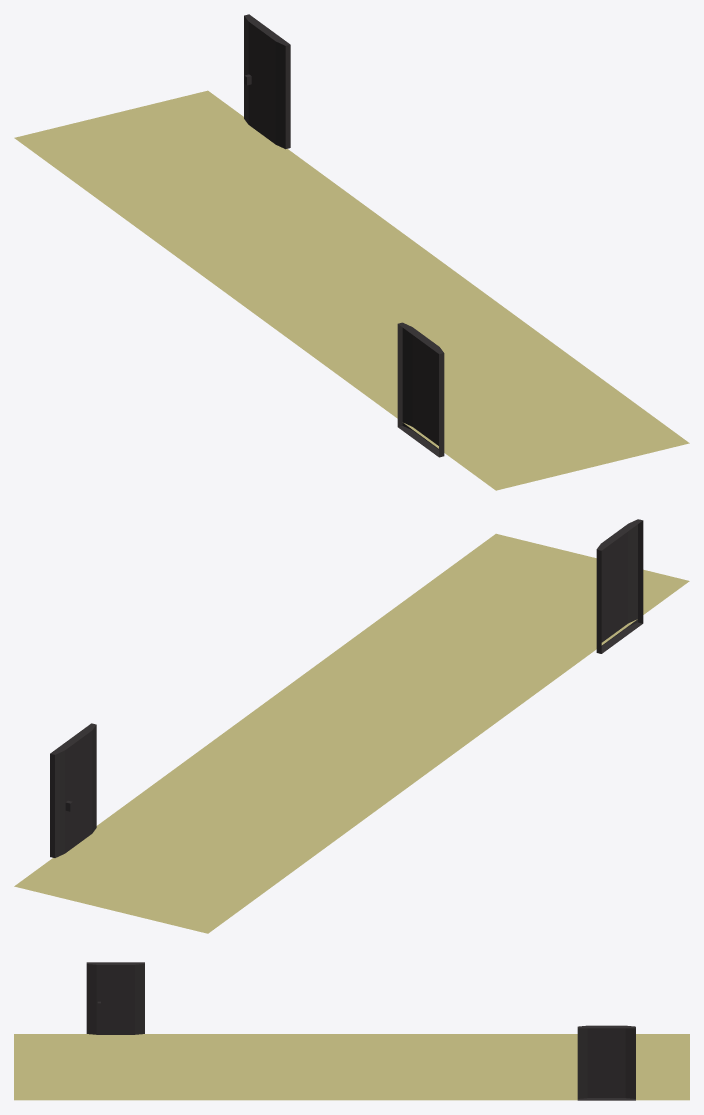
The model's file is ByakkoStage3.2.fbx.
3 views of the same model, one above another, from view 1: azimuth 30°, elevation 25°; view 2: azimuth 150°, elevation 25°; view 3: azimuth 270°, elevation 25° (orthographic). The views are drawn at different scales.
Parts seen in each view (by area): view 1: Plane.058, Plane.035, Plane.034; view 2: Plane.058, Plane.035, Plane.034; view 3: Plane.058, Plane.034, Plane.035.
Boxes of the visible parts, x1,y1,x2,y2 form: Plane.058: (14,90,689,490); Plane.035: (397,322,444,457); Plane.034: (244,14,290,149); Plane.058: (14,533,689,933); Plane.035: (596,519,643,653); Plane.034: (50,723,96,857); Plane.058: (14,1034,689,1100); Plane.034: (577,1025,635,1100); Plane.035: (86,962,144,1034).
Bounding box in the file's own units: 20 × 10.18 × 82.82.
